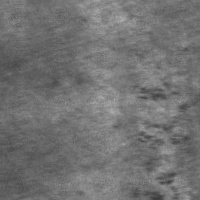rolled-in_scale: (129, 79, 189, 199)
